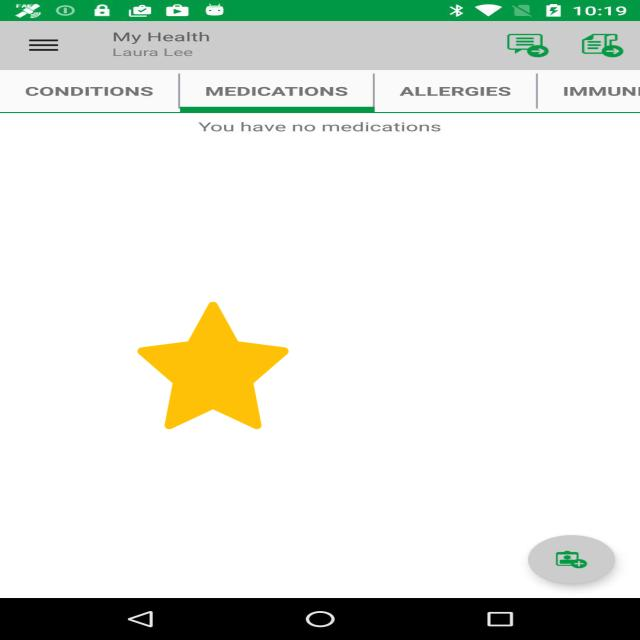forced continuity: (138, 302, 288, 429)
